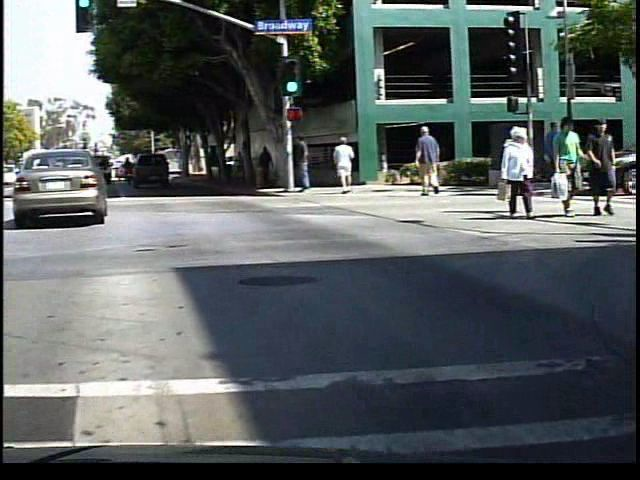person: (497, 124, 545, 220), (553, 116, 588, 219), (589, 117, 622, 218), (416, 124, 449, 197), (544, 116, 569, 190), (336, 135, 363, 197), (299, 131, 323, 200), (263, 141, 283, 191), (245, 146, 259, 191)
